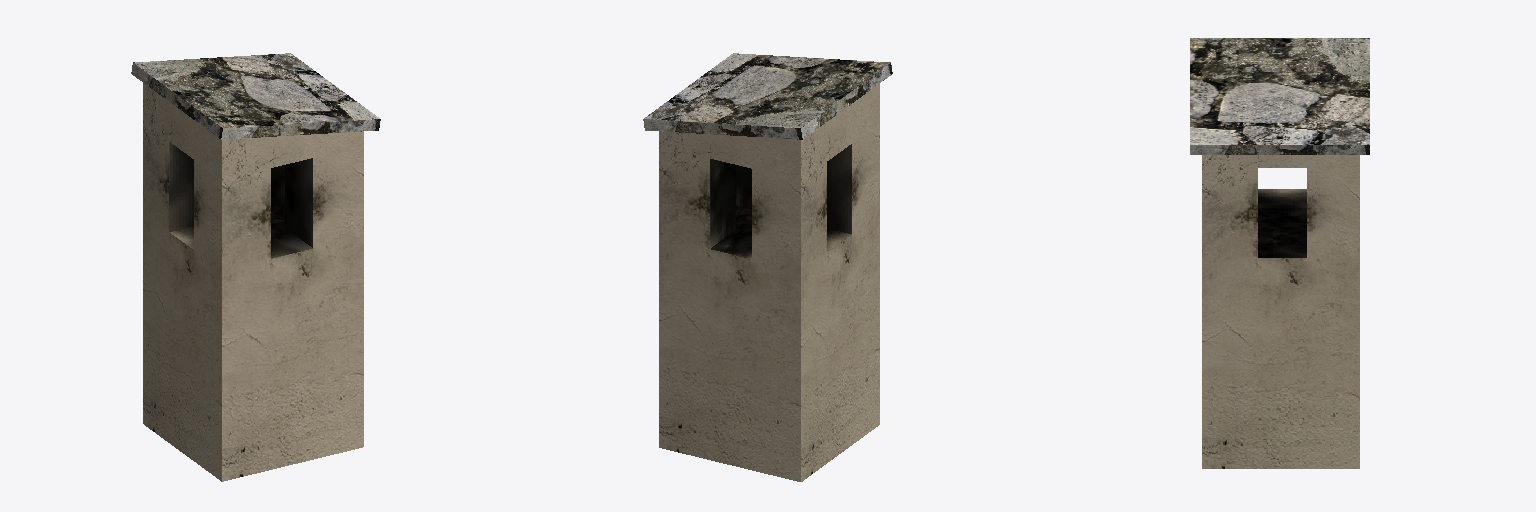
3 renders of one model, left to right at view 1: azimuth 30°, elevation 25°; view 2: azimuth 150°, elevation 25°; view 3: azimuth 270°, elevation 25°, orthographic.
Parts seen in each view (by area): view 1: Box02, Box01, soot01; view 2: Box02, Box01, soot01; view 3: Box02, Box01, soot01.
Part boxes in pixels (x1,y1,x2,y2): Box02: (143, 83, 363, 481); Box01: (131, 53, 380, 139); soot01: (169, 142, 312, 258); Box02: (659, 84, 879, 481); Box01: (643, 53, 892, 139); soot01: (710, 144, 851, 258); Box02: (1202, 155, 1359, 468); Box01: (1190, 38, 1369, 154); soot01: (1258, 189, 1306, 257).
Size of the model in its own units: 0.5654 by 1.22 by 0.553.
Materials: 3 (3 with a texture image).